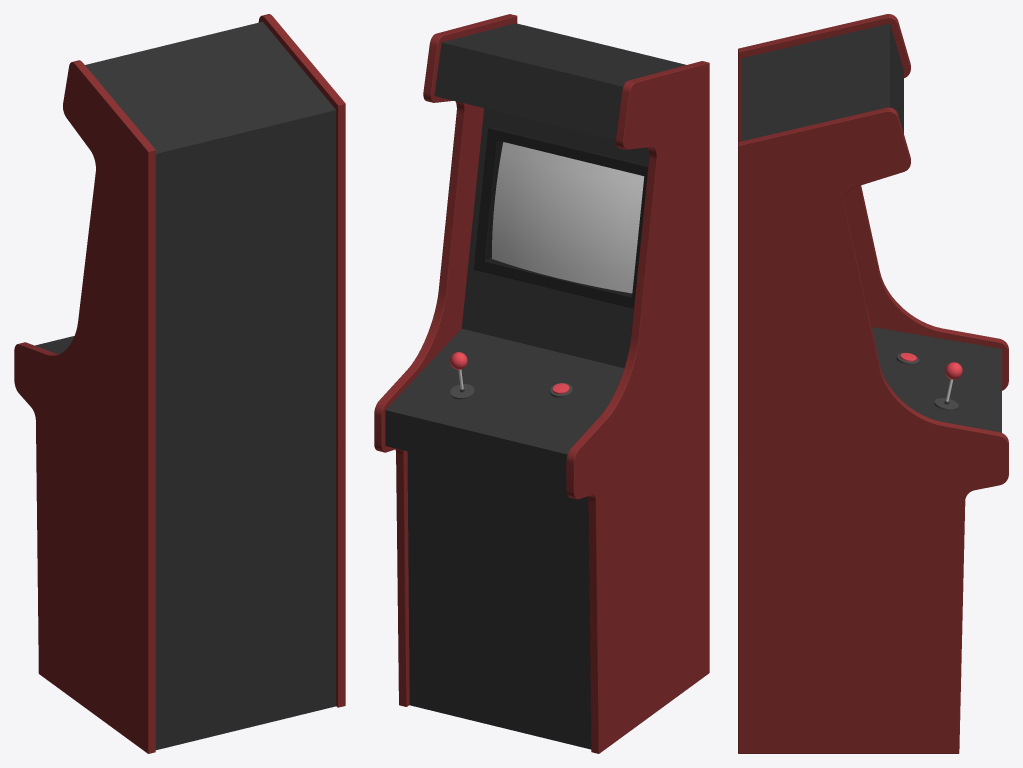
The model's file is arcade_machine_own.glb.
3 renders of one model, left to right at view 1: azimuth 30°, elevation 25°; view 2: azimuth 150°, elevation 25°; view 3: azimuth 270°, elevation 25°, orthographic.
Parts seen in each view (by area): view 1: BodyMesh, RightCover, LeftCover; view 2: BodyMesh, RightCover, Screen, LeftCover, ScreenFrame; view 3: LeftCover, BodyMesh, RightCover.
Part boxes in pixels (x1=…): BodyMesh: x1=35, y1=21, x2=335, y2=750; RightCover: x1=14, y1=60, x2=155, y2=753; LeftCover: x1=258, y1=14, x2=345, y2=707; BodyMesh: x1=385, y1=23, x2=685, y2=749; RightCover: x1=566, y1=61, x2=709, y2=753; Screen: x1=492, y1=142, x2=644, y2=293; LeftCover: x1=374, y1=14, x2=517, y2=706; ScreenFrame: x1=474, y1=126, x2=648, y2=308; LeftCover: x1=738, y1=107, x2=1008, y2=753; BodyMesh: x1=742, y1=23, x2=1001, y2=432; RightCover: x1=738, y1=14, x2=1008, y2=390.
Bounding box in the file's own units: 0.625 × 1.92 × 0.7342.
